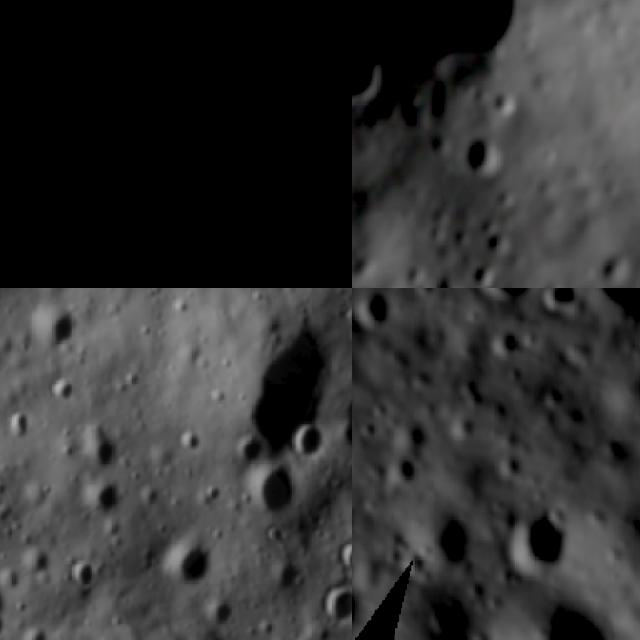crater: (501, 489, 577, 580), (136, 153, 207, 238), (304, 35, 352, 158), (512, 597, 640, 640), (240, 453, 312, 528), (420, 507, 481, 571), (151, 538, 217, 596), (24, 296, 80, 358), (84, 429, 147, 474), (352, 288, 402, 334), (288, 414, 330, 468), (59, 550, 105, 599), (77, 479, 124, 525), (383, 451, 426, 498), (310, 579, 352, 626), (478, 323, 525, 363), (471, 133, 510, 181), (463, 288, 554, 308), (352, 564, 374, 640), (307, 232, 347, 272), (278, 254, 323, 288), (205, 590, 242, 630), (47, 370, 85, 408), (446, 406, 484, 438), (494, 448, 528, 482), (2, 406, 33, 443), (465, 261, 502, 288), (333, 531, 352, 580), (541, 383, 568, 410), (16, 621, 54, 640), (358, 416, 382, 444), (490, 95, 520, 116), (372, 399, 392, 424)
